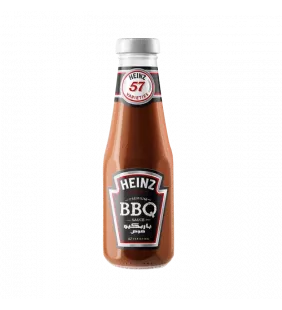HEINZ: (92, 28, 180, 276)
